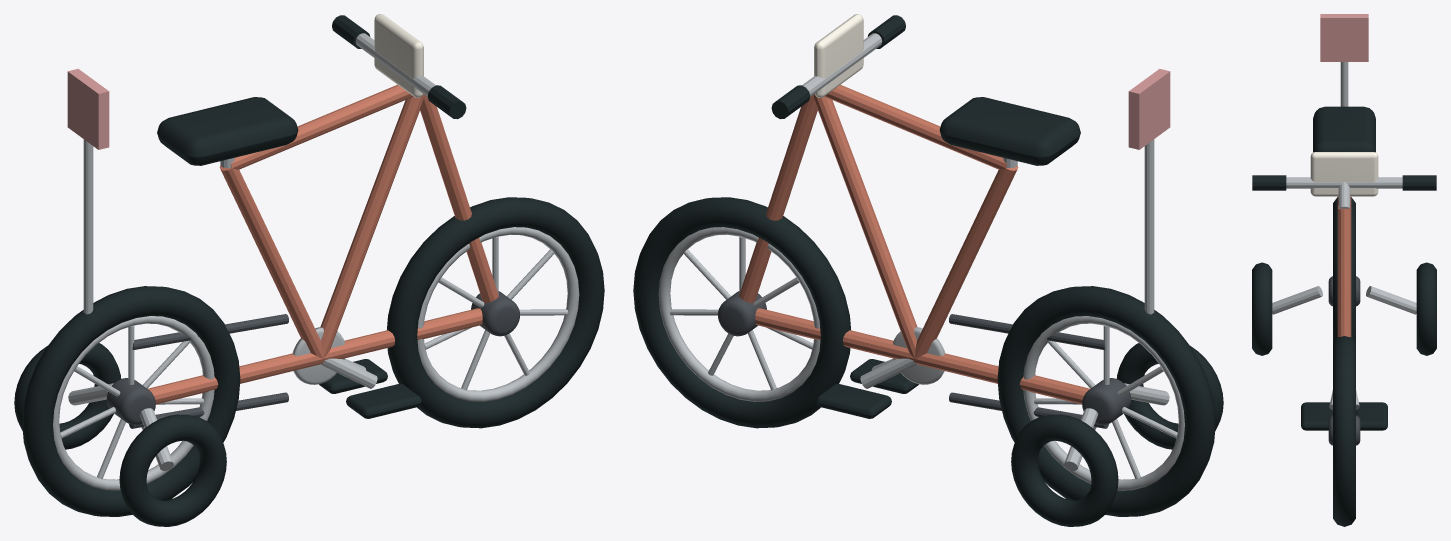
The model's file is bike_kids_b.glb.
3 renders of one model, left to right at view 1: azimuth 30°, elevation 25°; view 2: azimuth 150°, elevation 25°; view 3: azimuth 270°, elevation 25°, orthographic. The views are drawn at different scales.
Visible parts, largest first — view 1: Tint, Front wheel tyre.005, Rear wheel tyre.005, Stabiliser wheel, Saddle.005, Front wheel rim.005, Rear wheel rim.005, Stabiliser wheel.001, Safety flag, Number plate, Flag pole, Pedal.008 (+9 smaller); view 2: Tint, Front wheel tyre.005, Rear wheel tyre.005, Stabiliser wheel.001, Saddle.005, Front wheel rim.005, Rear wheel rim.005, Stabiliser wheel, Safety flag, Number plate, Flag pole, Pedal.009 (+9 smaller); view 3: Front wheel tyre.005, Saddle.005, Number plate, Safety flag, Tint, Stabiliser wheel, Stabiliser wheel.001, Rear wheel tyre.005, Handlebar.004, Pedal.008, Pedal.009, Stabiliser arm (+7 smaller).
Boxes of the visible parts, x1=… form: Tint: x1=147, y1=84, x2=498, y2=404; Front wheel tyre.005: x1=387, y1=197, x2=604, y2=428; Rear wheel tyre.005: x1=22, y1=286, x2=240, y2=516; Stabiliser wheel: x1=119, y1=414, x2=226, y2=526; Saddle.005: x1=157, y1=97, x2=298, y2=165; Front wheel rim.005: x1=417, y1=227, x2=579, y2=401; Rear wheel rim.005: x1=53, y1=316, x2=214, y2=490; Stabiliser wheel.001: x1=14, y1=343, x2=121, y2=449; Safety flag: x1=67, y1=68, x2=109, y2=149; Number plate: x1=374, y1=14, x2=423, y2=97; Flag pole: x1=83, y1=139, x2=93, y2=314; Pedal.008: x1=346, y1=384, x2=421, y2=418; Tint: x1=739, y1=84, x2=1090, y2=404; Front wheel tyre.005: x1=633, y1=197, x2=850, y2=428; Rear wheel tyre.005: x1=997, y1=286, x2=1215, y2=516; Stabiliser wheel.001: x1=1011, y1=414, x2=1118, y2=526; Saddle.005: x1=939, y1=97, x2=1080, y2=165; Front wheel rim.005: x1=658, y1=227, x2=820, y2=401; Rear wheel rim.005: x1=1023, y1=316, x2=1184, y2=490; Stabiliser wheel: x1=1116, y1=343, x2=1223, y2=449; Safety flag: x1=1128, y1=68, x2=1170, y2=149; Number plate: x1=814, y1=14, x2=863, y2=97; Flag pole: x1=1144, y1=139, x2=1154, y2=314; Pedal.009: x1=816, y1=384, x2=891, y2=418; Front wheel tyre.005: x1=1333, y1=336, x2=1355, y2=526; Saddle.005: x1=1313, y1=106, x2=1375, y2=152; Number plate: x1=1310, y1=152, x2=1378, y2=196; Safety flag: x1=1320, y1=14, x2=1368, y2=61; Tint: x1=1337, y1=196, x2=1351, y2=336; Stabiliser wheel: x1=1252, y1=262, x2=1272, y2=355; Stabiliser wheel.001: x1=1416, y1=262, x2=1436, y2=355; Rear wheel tyre.005: x1=1333, y1=197, x2=1355, y2=341; Handlebar.004: x1=1286, y1=177, x2=1402, y2=188; Pedal.008: x1=1301, y1=402, x2=1332, y2=430; Pedal.009: x1=1356, y1=402, x2=1387, y2=430; Stabiliser arm: x1=1272, y1=286, x2=1322, y2=314.
Bounding box in the file's own units: 1.08 × 0.79 × 0.3818.
